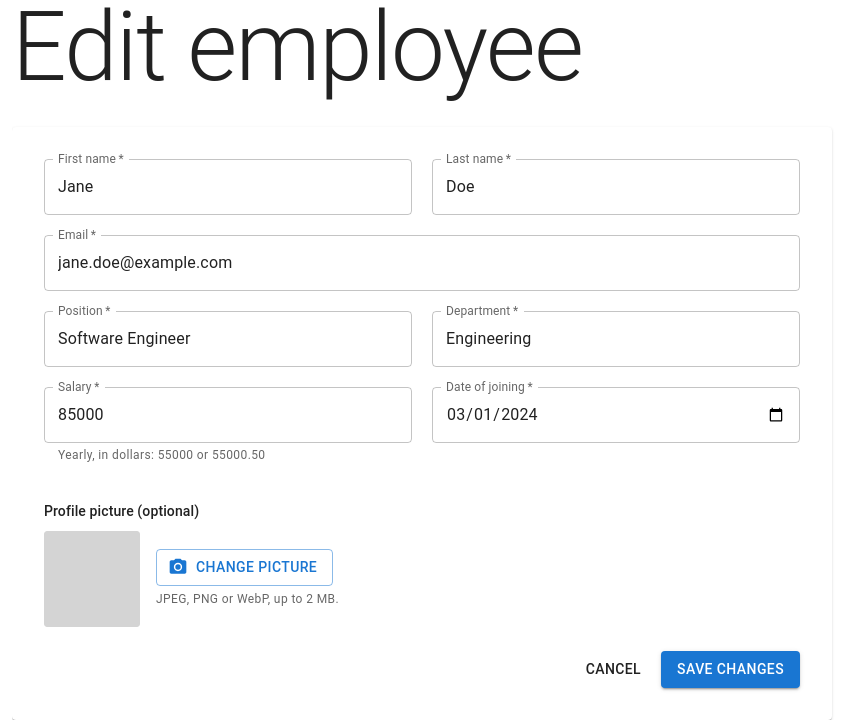
Scenario: EditEmployeePage: saving › shows a server failure above the buttons, in plain words, and can be retried
(page scrolled)
Check: the field showing "Jane" is shown, box 44,158 -> 412,214
Click the button "Save changes". click: x=731, y=670
box: 661,651 -> 800,688
(page scrolled)
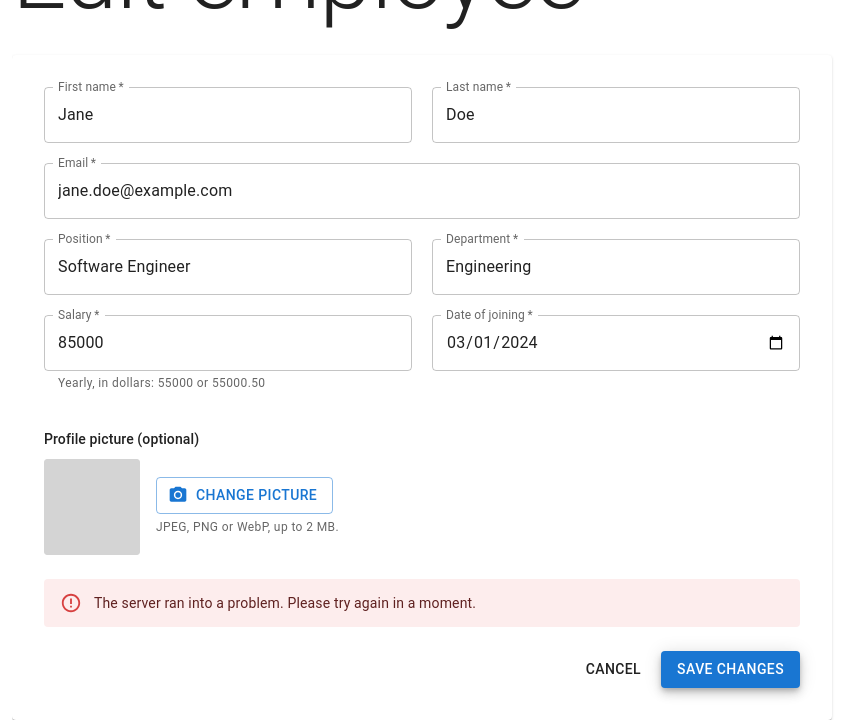
Check: the message does not show "internals", box 44,579 -> 800,627
Check: the message reads "The server ran into a problem. Please try again in a moment.", box 94,595 -> 476,611
Click the button "Save changes". click: x=731, y=670
box: 661,651 -> 800,688
(page scrolled)
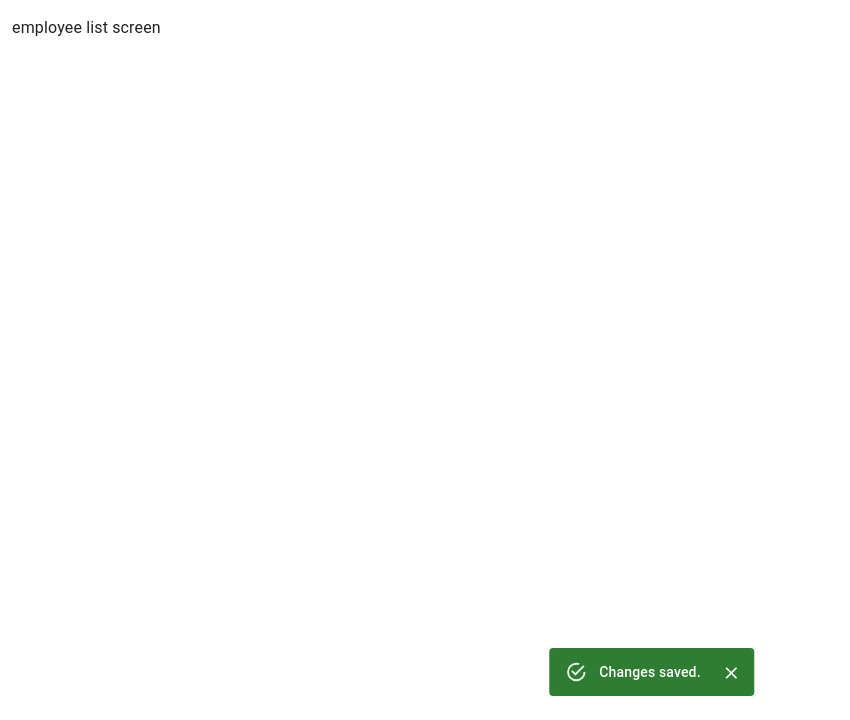
Check: the text "employee list screen" is shown, box 12,18 -> 161,37
